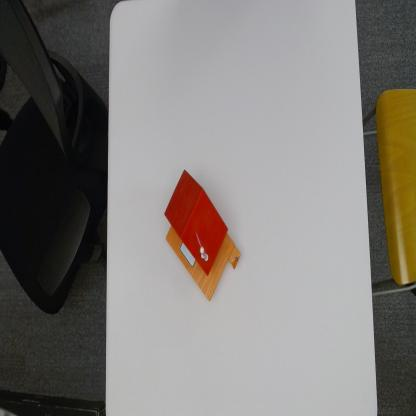House: (164, 166, 241, 302)
